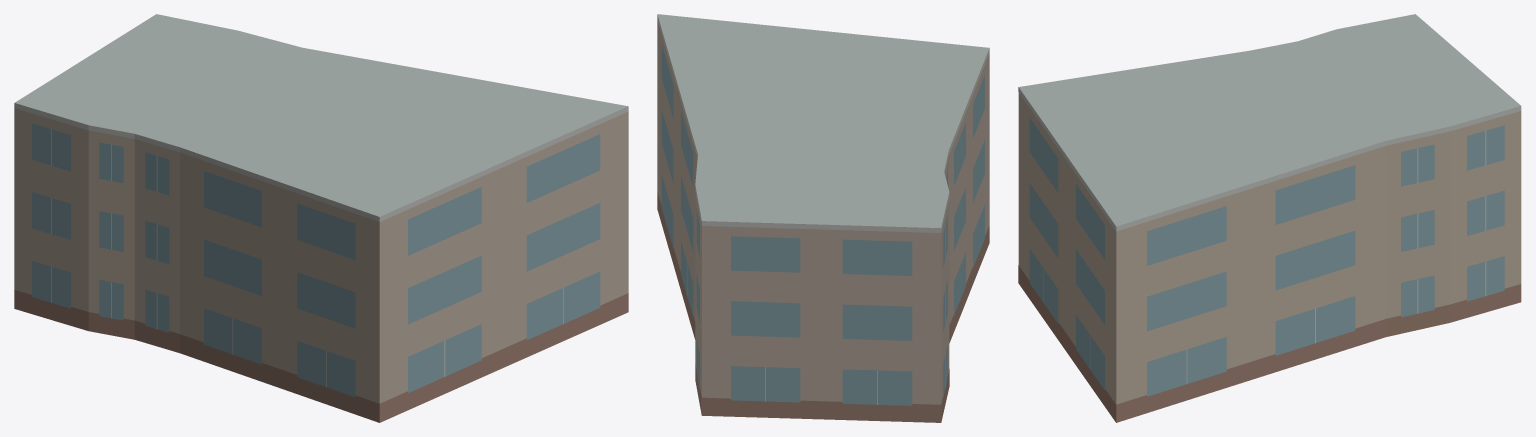
The model's file is survey-upis-32728473.glb.
The picture shows the model from 3 angles, left to right: view 1: azimuth 30°, elevation 25°; view 2: azimuth 150°, elevation 25°; view 3: azimuth 270°, elevation 25°; orthographic projection. The views are drawn at different scales.
Parts seen in each view (by area): view 1: survey-upis-32728473.tmp; view 2: survey-upis-32728473.tmp; view 3: survey-upis-32728473.tmp.
Boxes of the visible parts, x1,y1,x2,y2 form: survey-upis-32728473.tmp: [14, 14, 628, 422]; survey-upis-32728473.tmp: [657, 14, 989, 422]; survey-upis-32728473.tmp: [1018, 14, 1521, 422].
Bounding box in the file's own units: 22.54 × 9.7 × 22.53.
